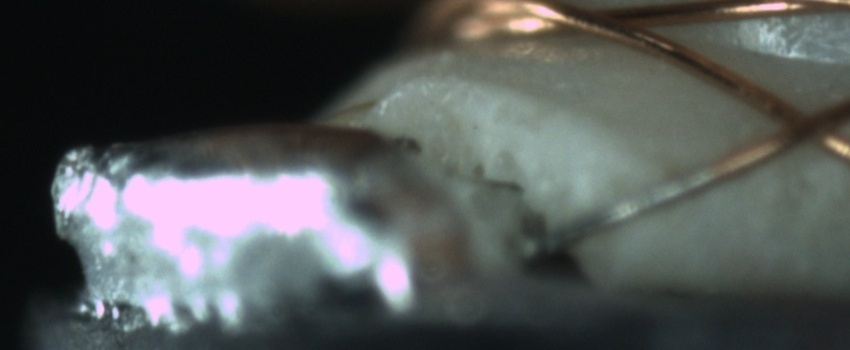CL: (758, 87, 849, 160)
TS: (533, 166, 717, 257)
